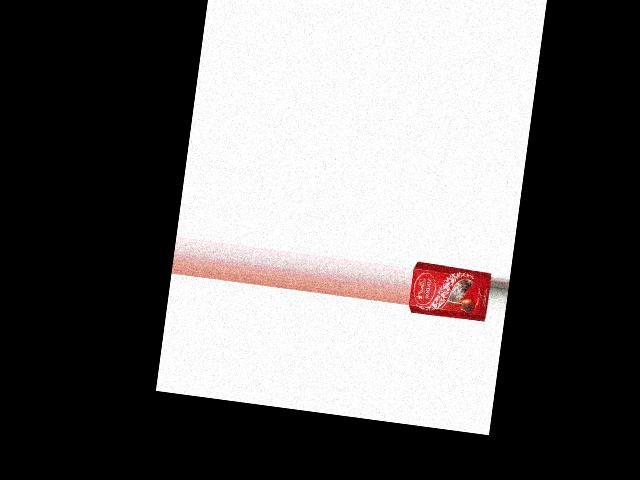chocolate: (407, 260, 492, 326)
